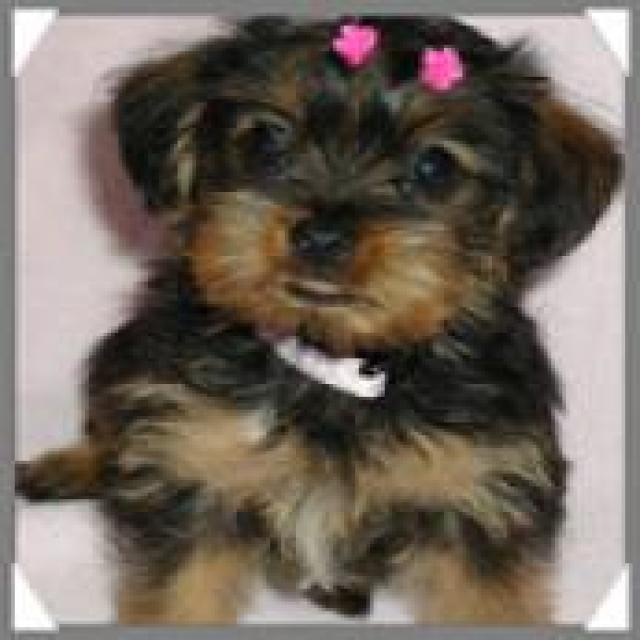dog-yorkshire_terrier: (7, 6, 629, 634)
